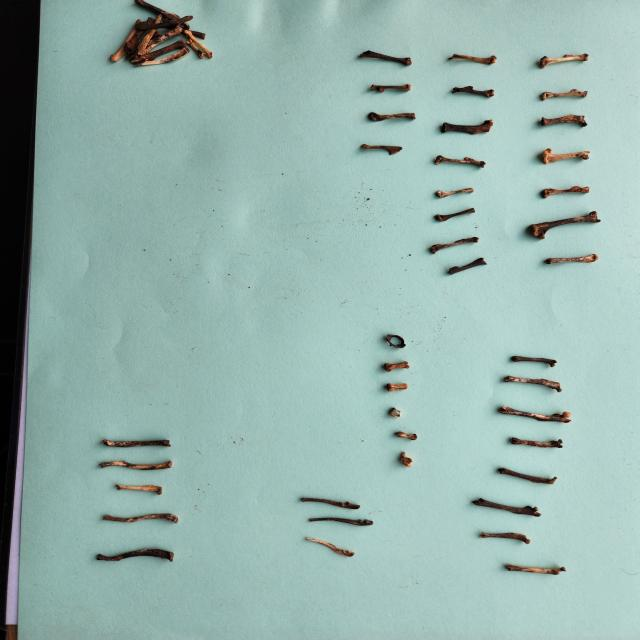fossil: (521, 208, 608, 242), (101, 15, 153, 66), (87, 542, 185, 567), (463, 493, 548, 520), (125, 34, 203, 63), (488, 462, 564, 491), (492, 401, 577, 426), (90, 456, 184, 477), (98, 507, 186, 529), (130, 0, 194, 30), (498, 557, 576, 581), (128, 38, 189, 68), (296, 532, 362, 559), (497, 371, 570, 395), (435, 115, 500, 141), (472, 524, 542, 548), (134, 10, 168, 59), (96, 434, 178, 453), (354, 46, 421, 69), (293, 491, 366, 512), (298, 513, 385, 530), (419, 234, 486, 256), (505, 349, 567, 372), (141, 46, 198, 70), (123, 15, 155, 57), (505, 432, 568, 453), (183, 29, 221, 63), (536, 146, 594, 168), (107, 480, 177, 498), (532, 182, 602, 200), (534, 50, 593, 70), (444, 49, 502, 69), (130, 15, 202, 31), (542, 251, 604, 269), (444, 255, 492, 278), (534, 112, 594, 130), (430, 153, 492, 170), (364, 108, 419, 125), (534, 86, 592, 102), (428, 206, 482, 223), (356, 140, 411, 156), (448, 83, 499, 100), (387, 448, 424, 471), (366, 80, 418, 96), (432, 185, 482, 200), (380, 331, 415, 352), (378, 358, 417, 376), (389, 428, 424, 444), (381, 379, 414, 395), (386, 404, 406, 419)
